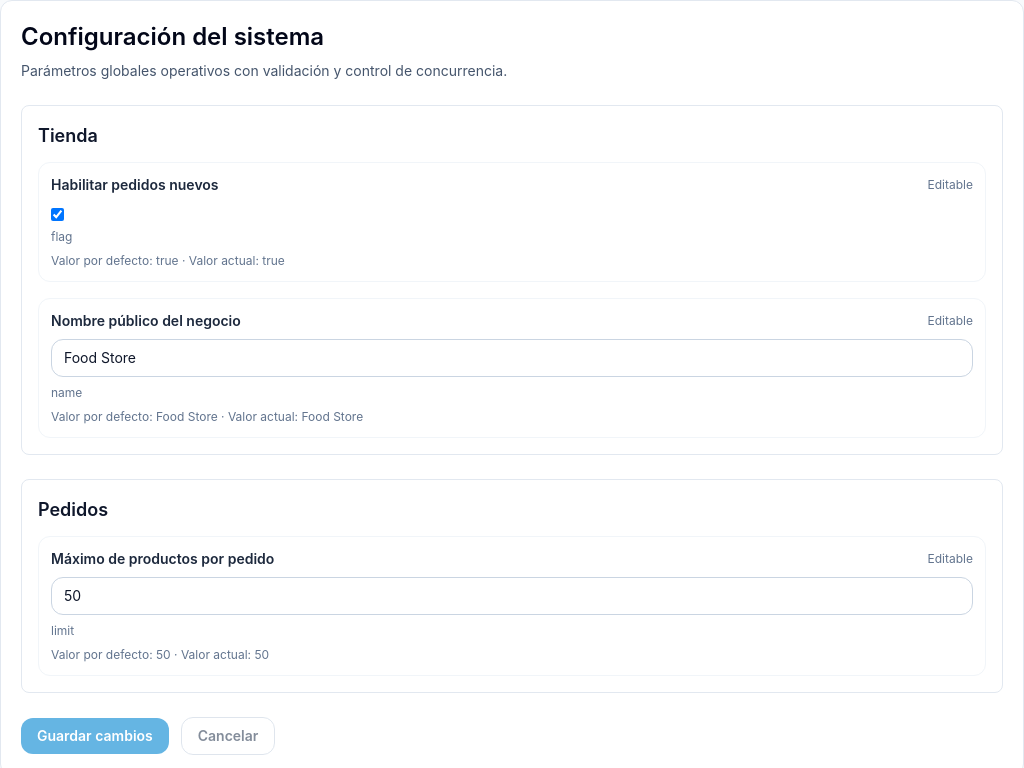
Test: AdminSystemConfigurationPage › renders typed controls and handles dirty cancel
Expected: the button "Guardar cambios" is disabled, x1=21 y1=718 x2=169 y2=754
Expected: the button "Cancelar" is disabled, x1=181 y1=717 x2=275 y2=755
Replace the text in the number field named "orders.max_items_per_order" with "80" at (512,596), box x1=51 y1=577 x2=973 y2=615
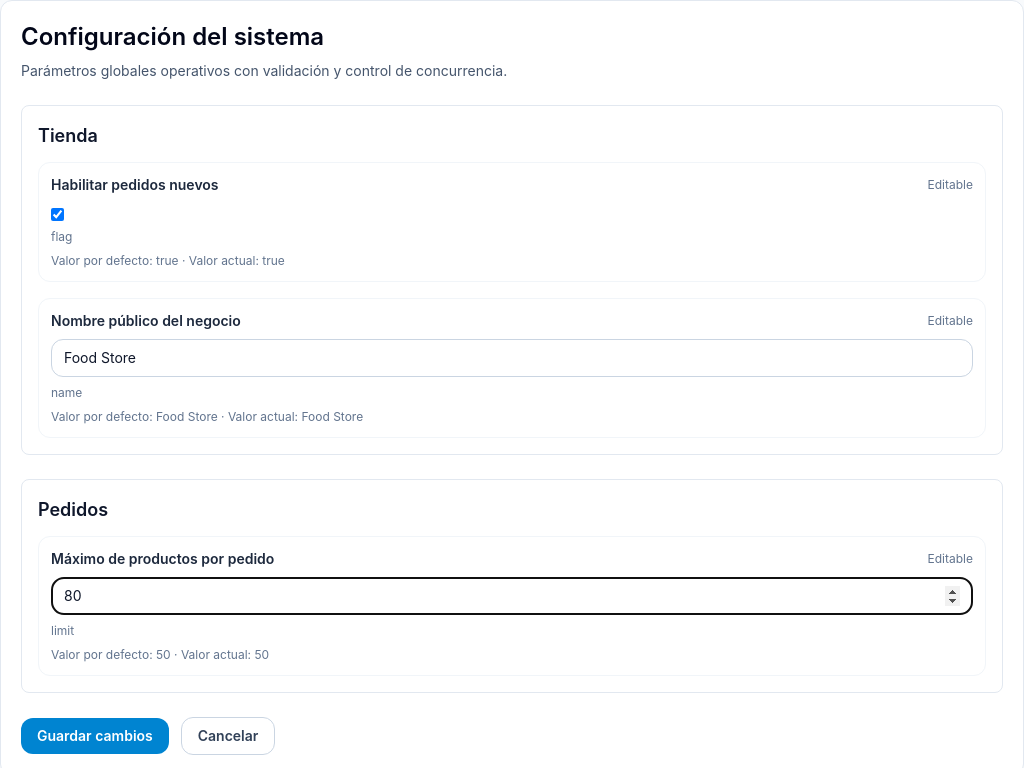
Now the button "Guardar cambios" is enabled, box x1=21 y1=718 x2=169 y2=754
Now the button "Cancelar" is enabled
Click the button "Cancelar".
click(228, 736)  # box x1=181 y1=717 x2=275 y2=755
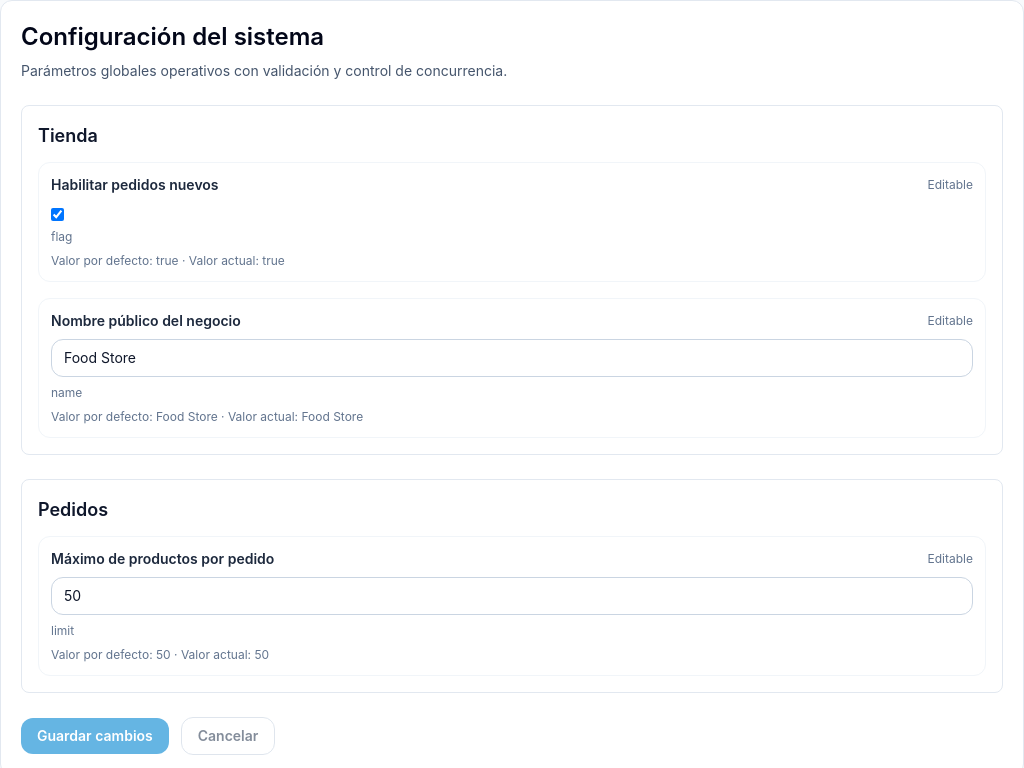
Now the number field named "orders.max_items_per_order" holds "50", box x1=51 y1=577 x2=973 y2=615
Now the button "Guardar cambios" is disabled, box x1=21 y1=718 x2=169 y2=754
